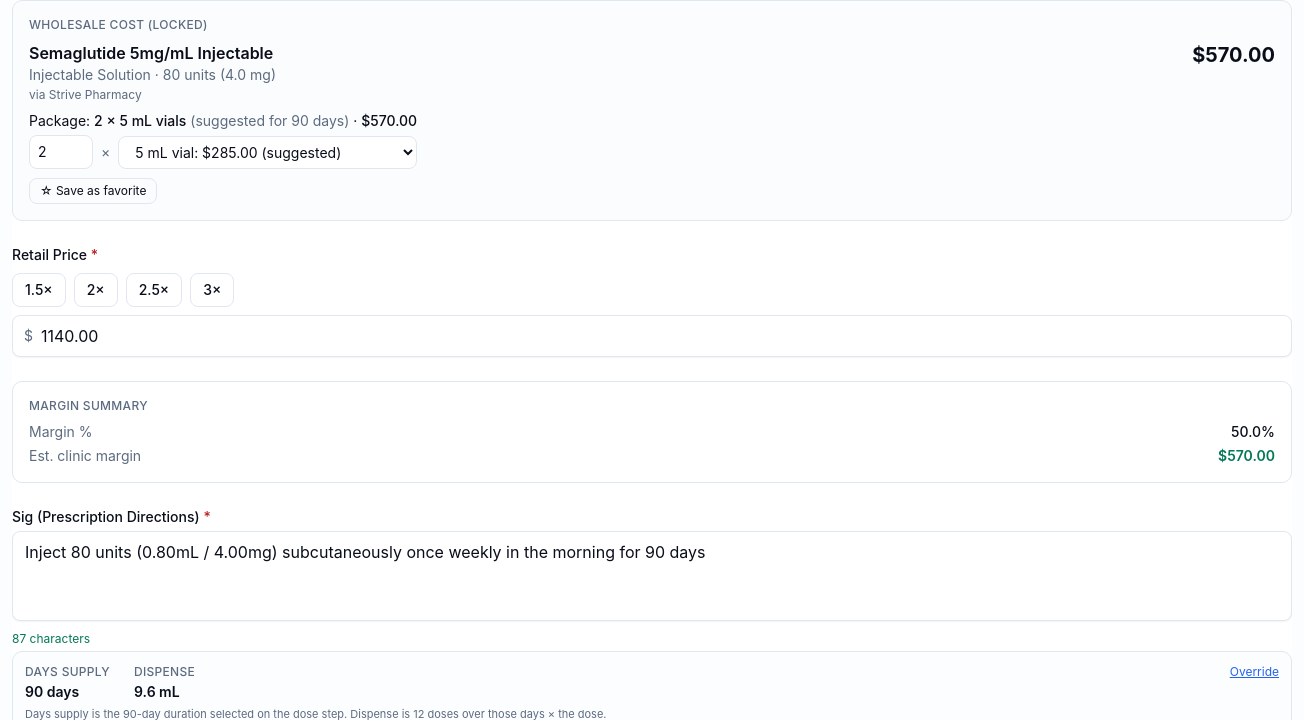
Test case: MarginBuilderForm — WO-101a package count › changing the package gives it the count that package needs
The width and height of the screenshot is (1304, 720).
Select "2.5 mL vial: $165.00" in the dropdown named "Package" at (268, 152), box [118,136,417,168]
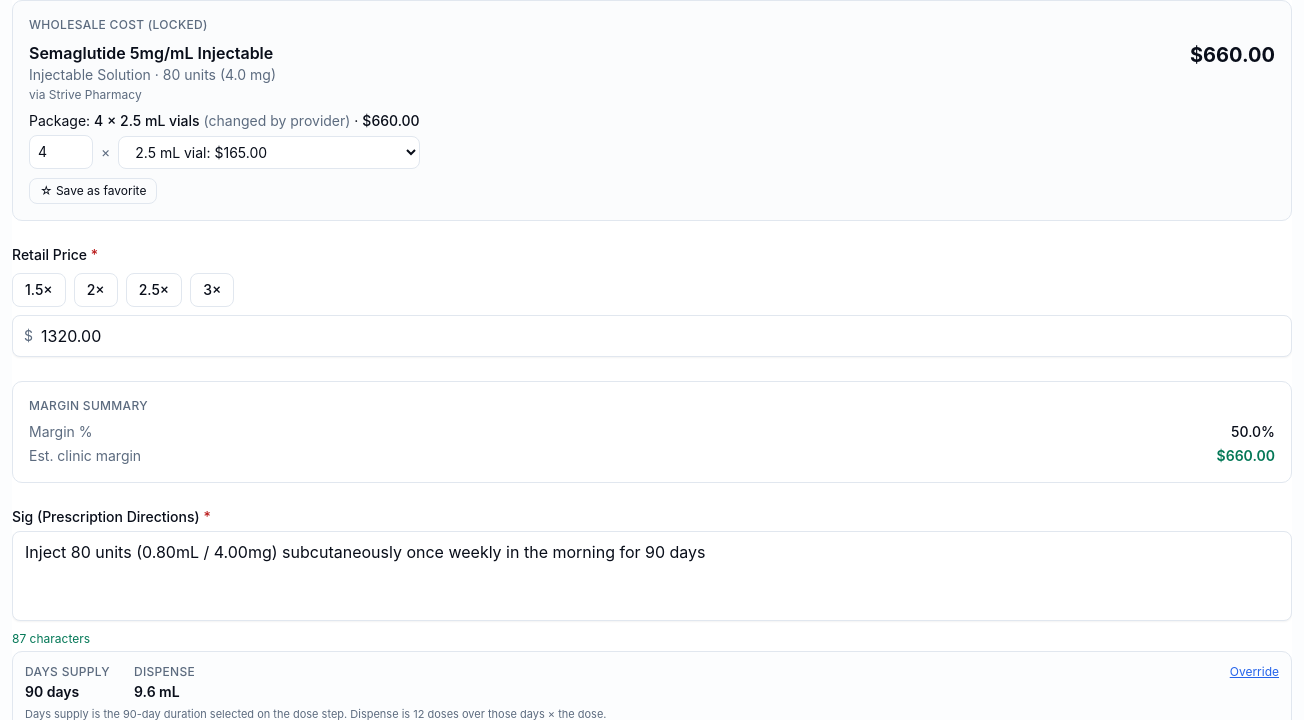
Check: the element with test id "package-summary" reads "Package: 4 × 2.5 mL vials (changed by provider) · $660.00", box [29,111,420,131]
Check: the number field named "Number of packages" holds "4", box [29,135,93,169]
Check: the number field labelled "Retail Price *" holds "1320", box [12,315,1292,357]
